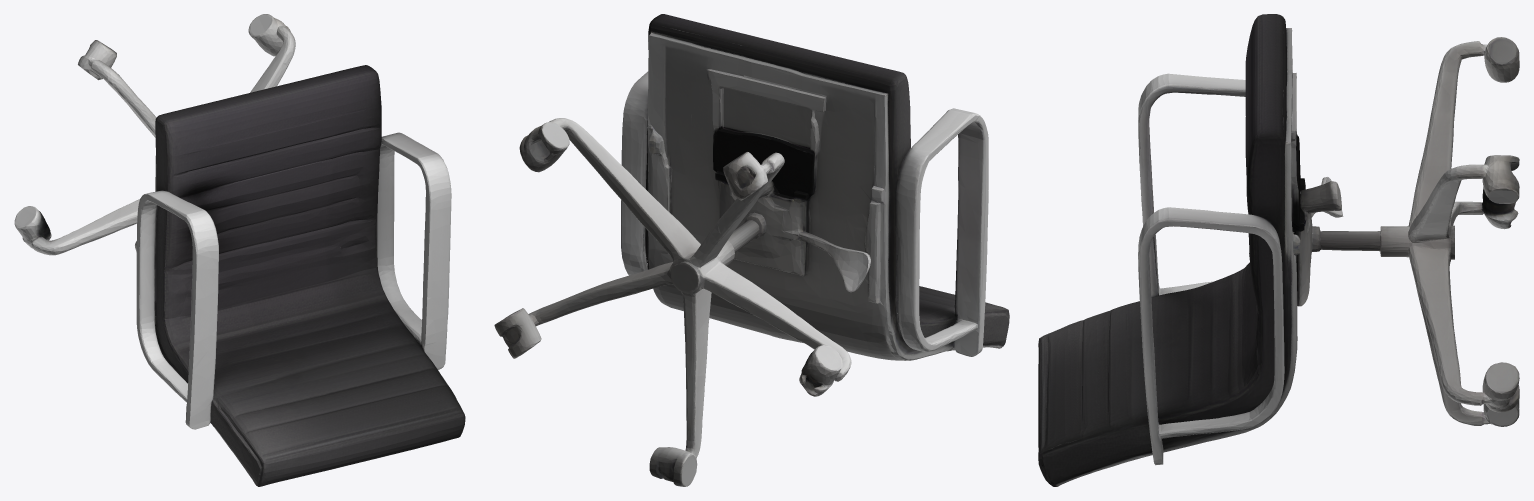
File: TRELLIS_postpipe_orient_12_rot_90_x.glb
The picture shows the model from 3 angles, left to right: view 1: azimuth 30°, elevation 25°; view 2: azimuth 150°, elevation 25°; view 3: azimuth 270°, elevation 25°; orthographic projection. The views are drawn at different scales.
Visible parts, largest first — view 1: world; view 2: world; view 3: world.
Part boxes in pixels (x1,y1,x2,y2): world: (14, 14, 465, 486); world: (494, 14, 1009, 486); world: (1038, 14, 1519, 486).
Bounding box in the file's own units: 0.5838 × 0.5776 × 0.701.
1 material, 1 textured.
